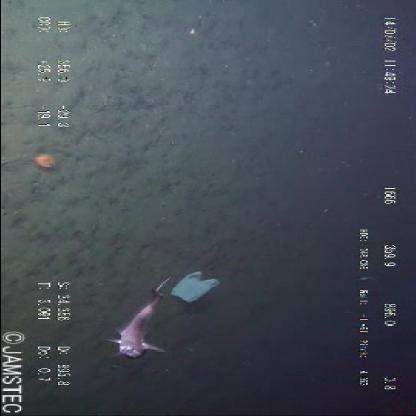Bio: (103, 279, 177, 361)
Rác: (168, 263, 220, 305)
